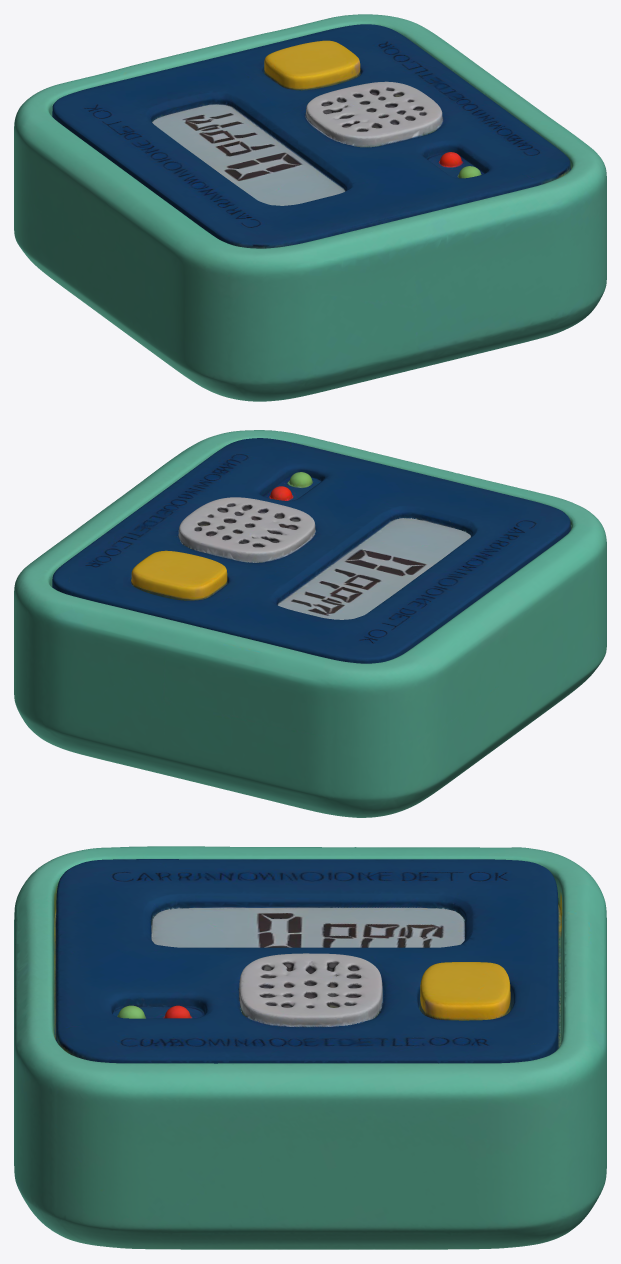
The model's file is GasAlert.glb.
3 views of the same model, one above another, from view 1: azimuth 30°, elevation 25°; view 2: azimuth 150°, elevation 25°; view 3: azimuth 270°, elevation 25° (orthographic). The views are drawn at different scales.
Visible parts, largest first — view 1: tripo_node_376184fa-0f89-4d44-9935-dc1962647fc1; view 2: tripo_node_376184fa-0f89-4d44-9935-dc1962647fc1; view 3: tripo_node_376184fa-0f89-4d44-9935-dc1962647fc1.
Boxes of the visible parts, x1=… form: tripo_node_376184fa-0f89-4d44-9935-dc1962647fc1: x1=14, y1=14, x2=606, y2=401; tripo_node_376184fa-0f89-4d44-9935-dc1962647fc1: x1=14, y1=430, x2=606, y2=817; tripo_node_376184fa-0f89-4d44-9935-dc1962647fc1: x1=14, y1=846, x2=606, y2=1249.
Size of the model in its own units: 0.974 by 0.3686 by 1.
1 material, 1 textured.
